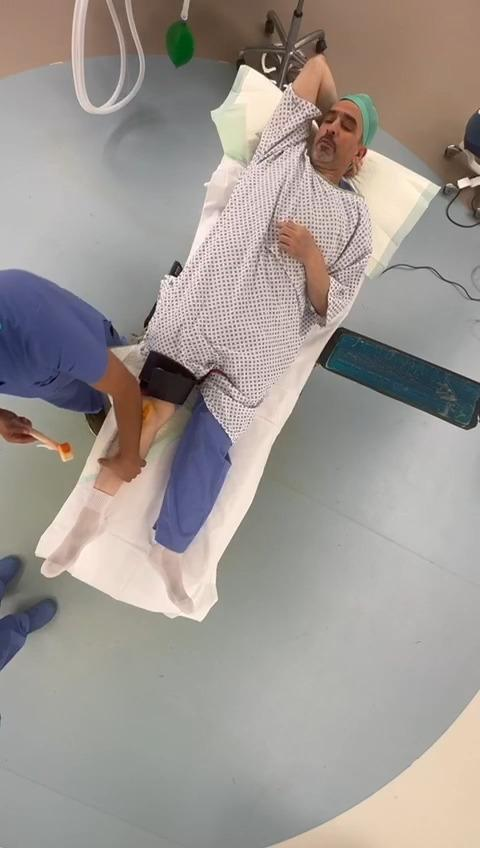patient: (43, 55, 378, 617)
prepstick: (30, 427, 75, 462)
tourniquet: (139, 351, 199, 405)
